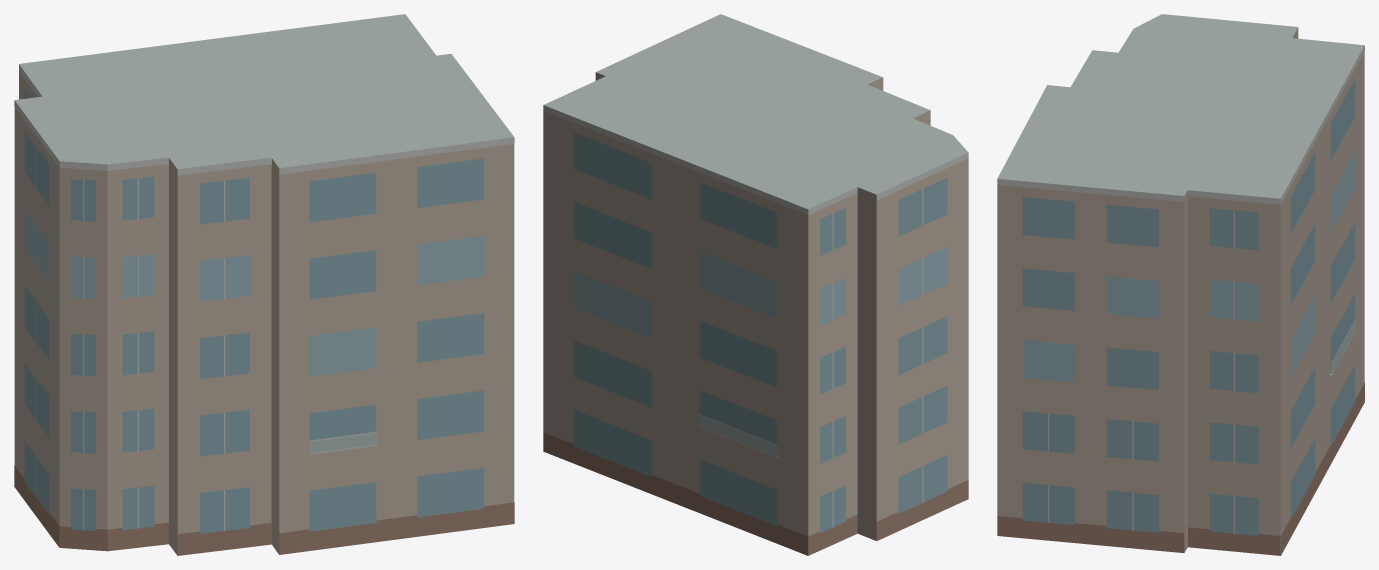
Rendered from survey-upis-32458164.glb.
The picture shows the model from 3 angles, left to right: view 1: azimuth 30°, elevation 25°; view 2: azimuth 150°, elevation 25°; view 3: azimuth 270°, elevation 25°; orthographic projection. The views are drawn at different scales.
Visible parts, largest first — view 1: survey-upis-32458164.tmp; view 2: survey-upis-32458164.tmp; view 3: survey-upis-32458164.tmp.
Part boxes in pixels (left/top/right/bottom): survey-upis-32458164.tmp: left=14, top=14, right=514, bottom=555; survey-upis-32458164.tmp: left=543, top=14, right=968, bottom=555; survey-upis-32458164.tmp: left=997, top=14, right=1364, bottom=555.
Bounding box in the file's own units: 16.11 × 14.5 × 13.54.
